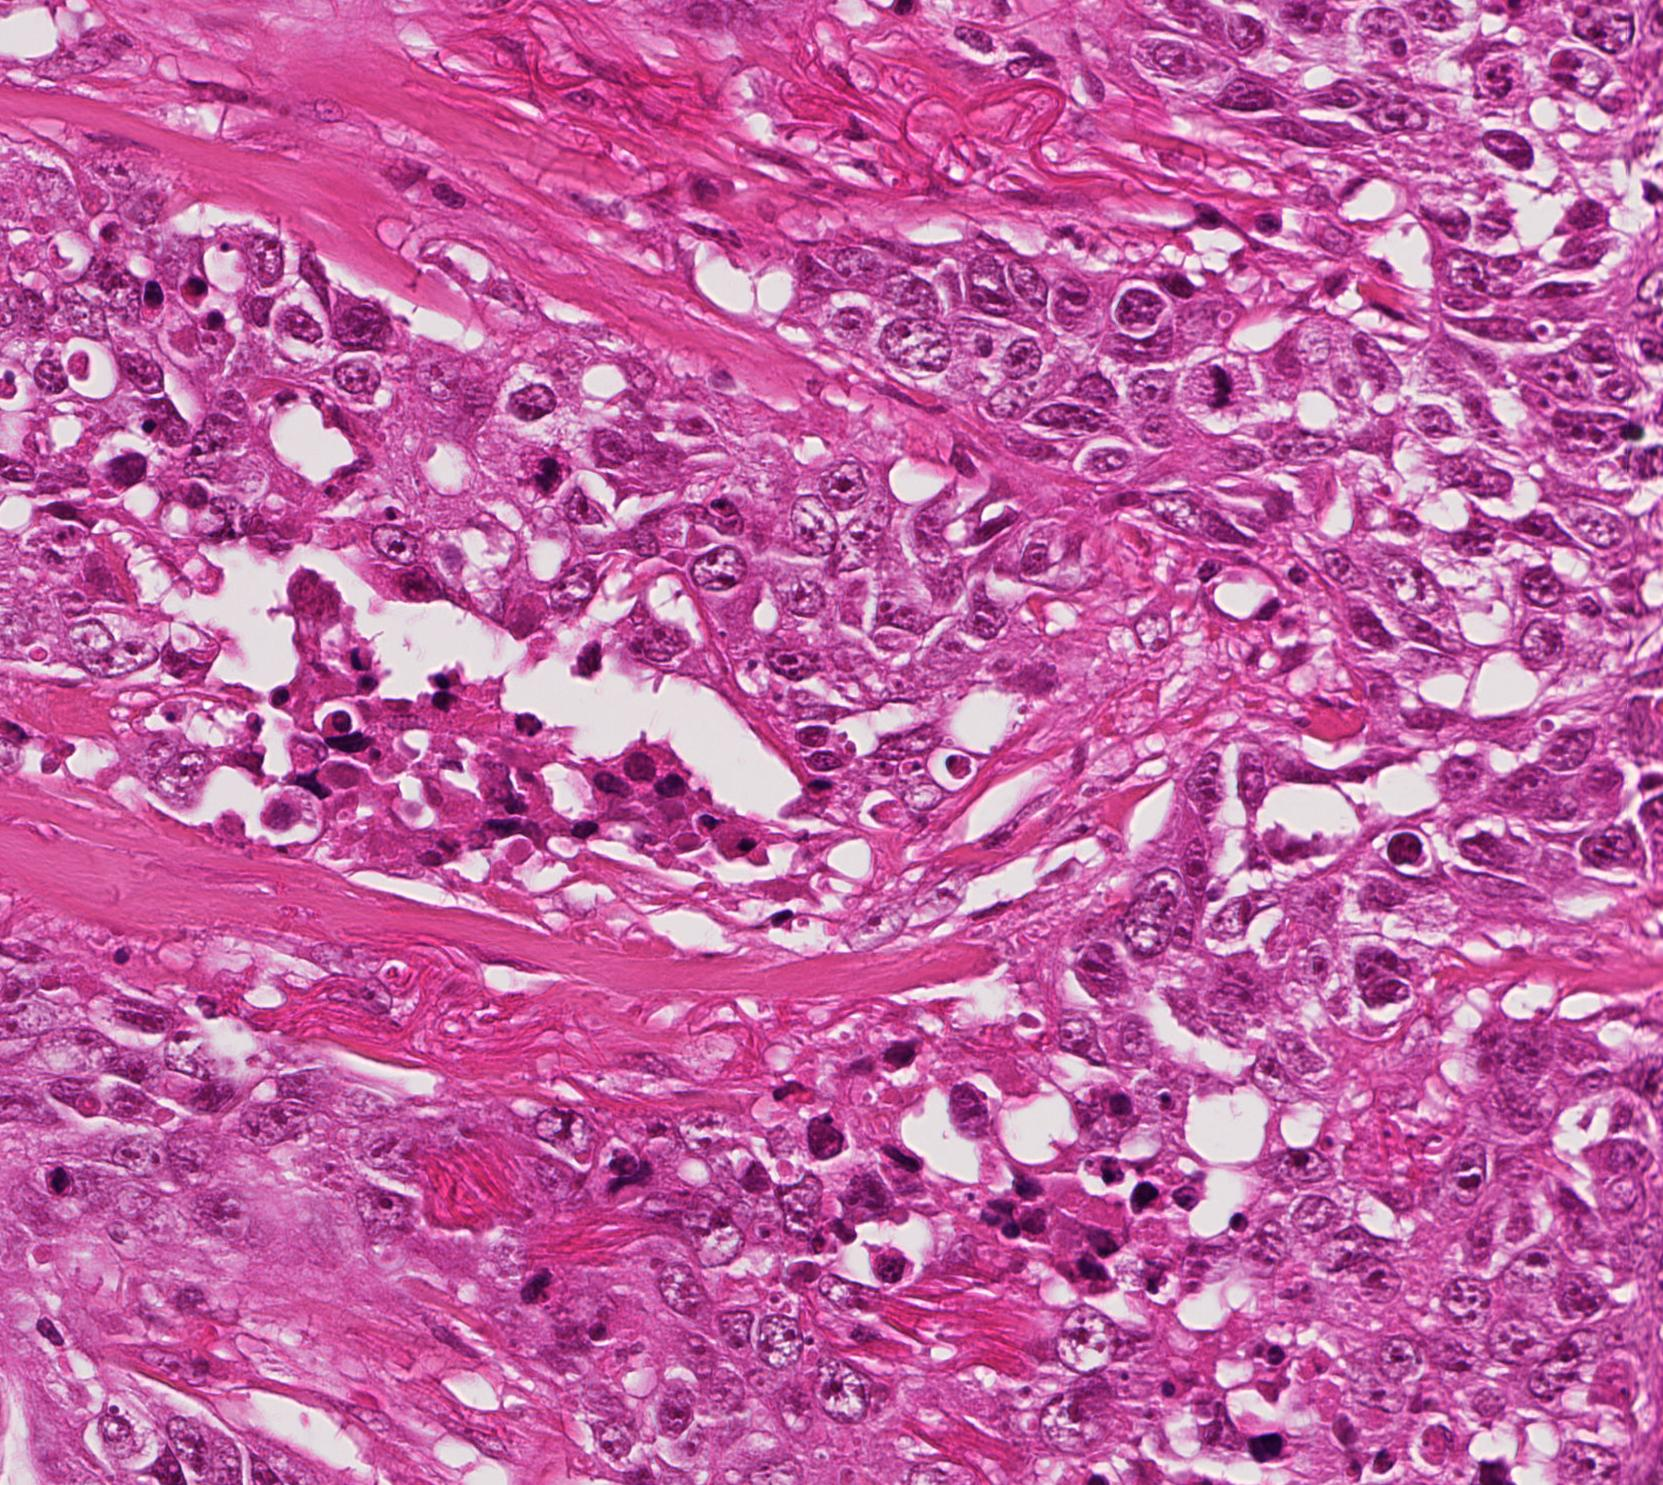mitosis: (1177, 353, 1237, 411)
